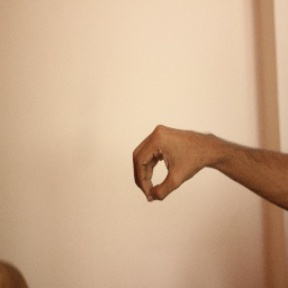O: (131, 122, 212, 208)
